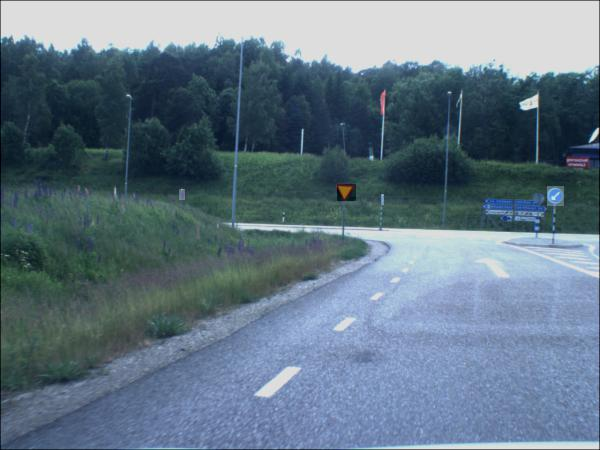GIVE_WAY: (337, 185, 357, 203)
NO_PARKING: (179, 190, 186, 202)
PASS_RIGHT_SIDE: (547, 187, 565, 208), (381, 195, 385, 207)
